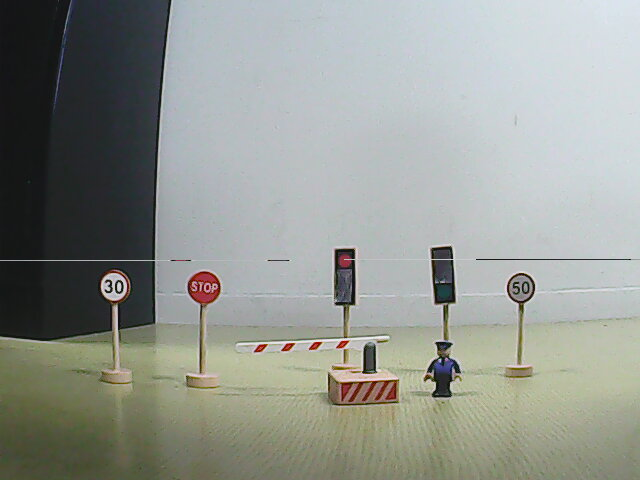barrier: (230, 333, 403, 407)
green_traffic_sign: (431, 244, 457, 305)
person: (421, 340, 464, 401)
red_traffic_sign: (333, 246, 358, 307)
sign_30: (98, 270, 132, 304)
sign_50: (505, 271, 537, 305)
stop_sign: (186, 269, 222, 306)
